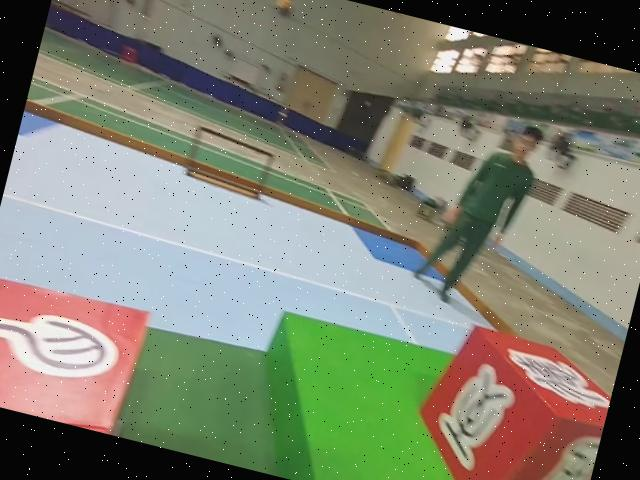R2 Fake: (393, 314, 620, 480), (0, 264, 152, 437)
